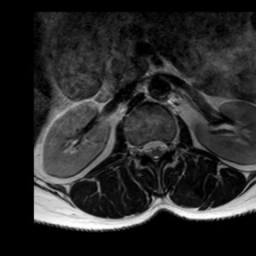CCS_normal: (151, 132, 159, 168)
LFS_normal: (167, 131, 175, 158)
LLS_normal: (159, 131, 168, 161)
RFS_normal: (134, 135, 143, 161)
RLS_normal: (143, 133, 151, 162)
